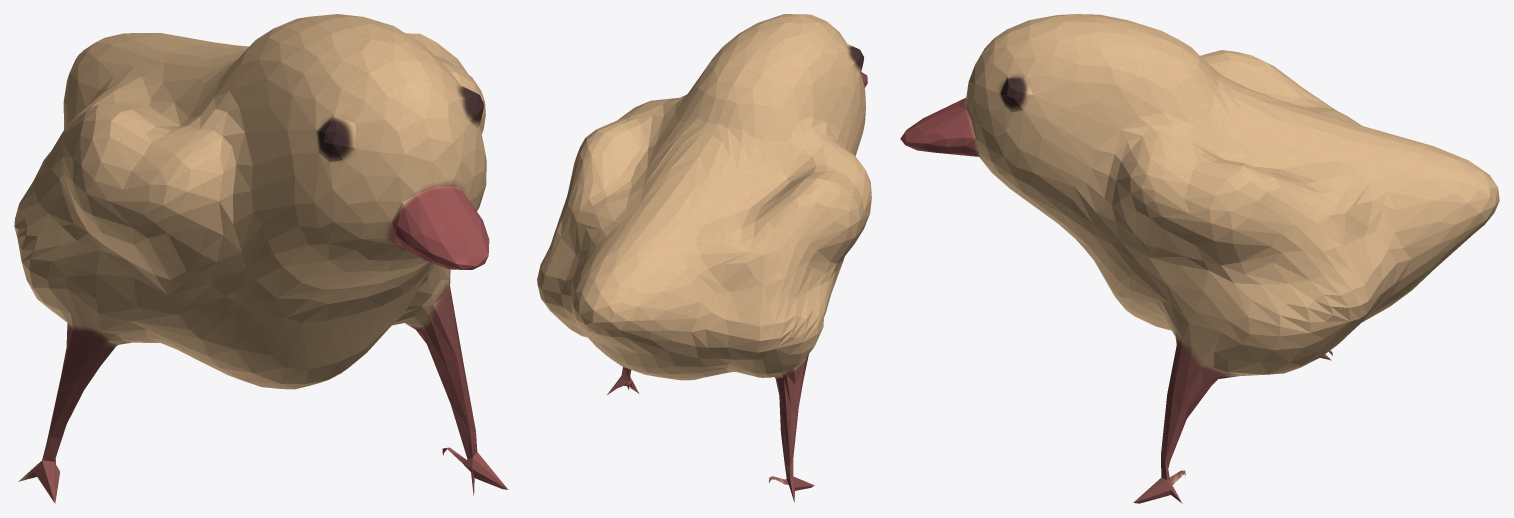
File: chicken_5.obj
3 renders of one model, left to right at view 1: azimuth 30°, elevation 25°; view 2: azimuth 150°, elevation 25°; view 3: azimuth 270°, elevation 25°, orthographic. The views are drawn at different scales.
Parts seen in each view (by area): view 1: TRYout:Group36674_Group36674; view 2: TRYout:Group36674_Group36674; view 3: TRYout:Group36674_Group36674.
Part boxes in pixels (x1,y1,x2,y2): TRYout:Group36674_Group36674: (14, 14, 508, 503); TRYout:Group36674_Group36674: (537, 14, 871, 502); TRYout:Group36674_Group36674: (900, 14, 1499, 503).
Size of the model in its own units: 3.69 by 4.79 by 6.22.
1 material, 1 textured.
